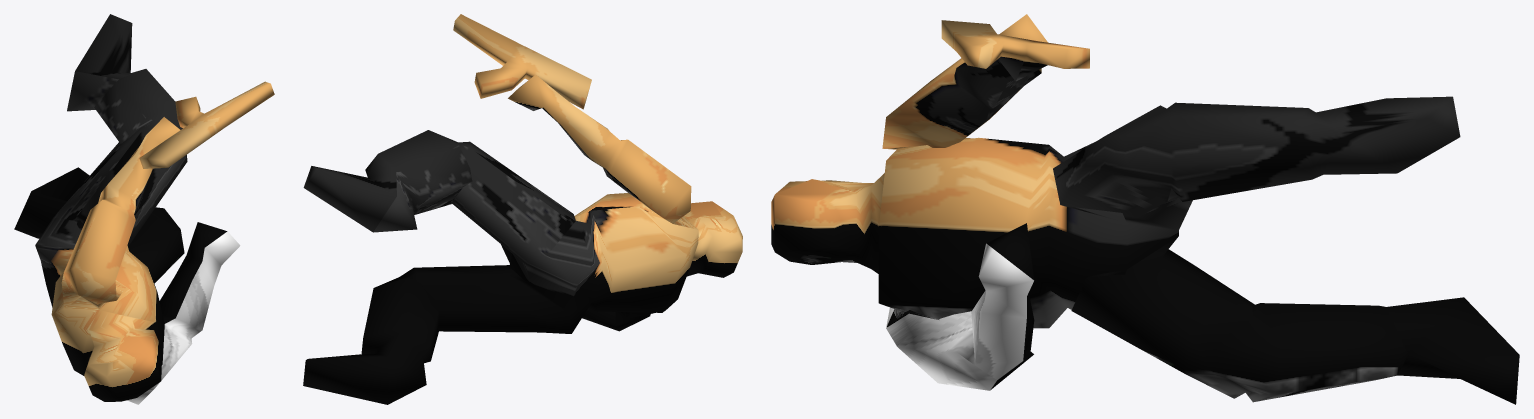
Rendered from guardout.fbx.
3 views of the same model, side by side, from view 1: azimuth 30°, elevation 25°; view 2: azimuth 150°, elevation 25°; view 3: azimuth 270°, elevation 25° (orthographic). The views are drawn at different scales.
Visible parts, largest first — view 1: mesh0; view 2: mesh0; view 3: mesh0.
Part boxes in pixels (left/top/right/bottom): mesh0: left=14, top=14, right=274, bottom=404; mesh0: left=303, top=14, right=742, bottom=404; mesh0: left=771, top=14, right=1519, bottom=404.
Size of the model in its own units: 30.68 by 35.25 by 53.17.
